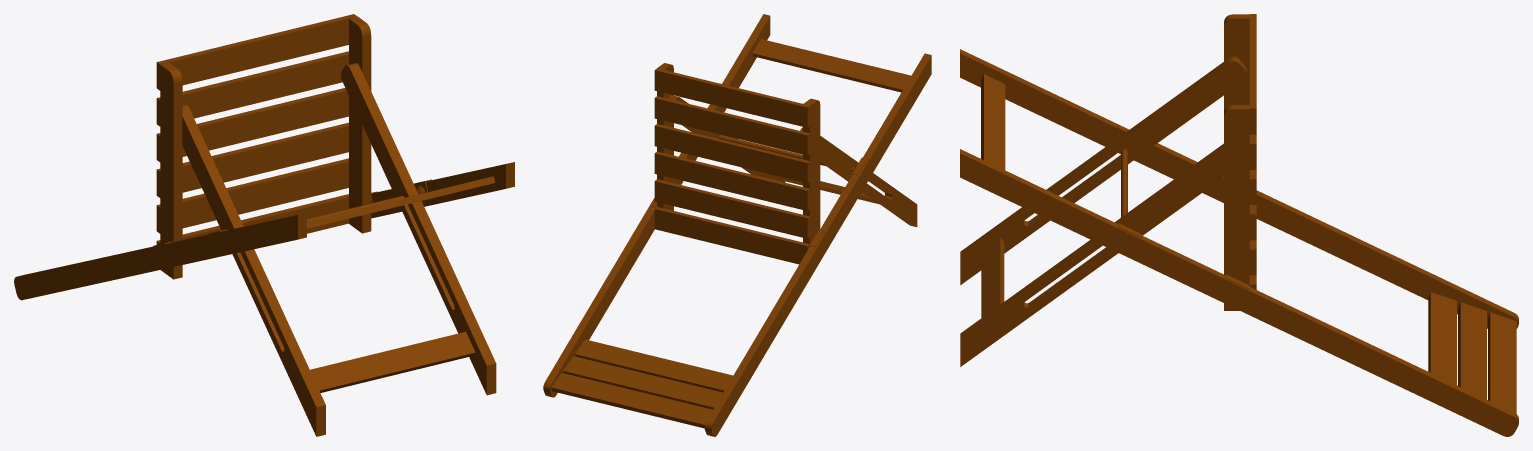
File: Silla2.fbx
3 renders of one model, left to right at view 1: azimuth 30°, elevation 25°; view 2: azimuth 150°, elevation 25°; view 3: azimuth 270°, elevation 25°, orthographic. The views are drawn at different scales.
Visible parts, largest first — view 1: chair; view 2: chair; view 3: chair.
Part boxes in pixels (x1,y1,x2,y2): chair: [14, 14, 514, 436]; chair: [543, 14, 931, 436]; chair: [960, 14, 1518, 436].
Bounding box in the file's own units: 36.42 × 52.73 × 82.6.
